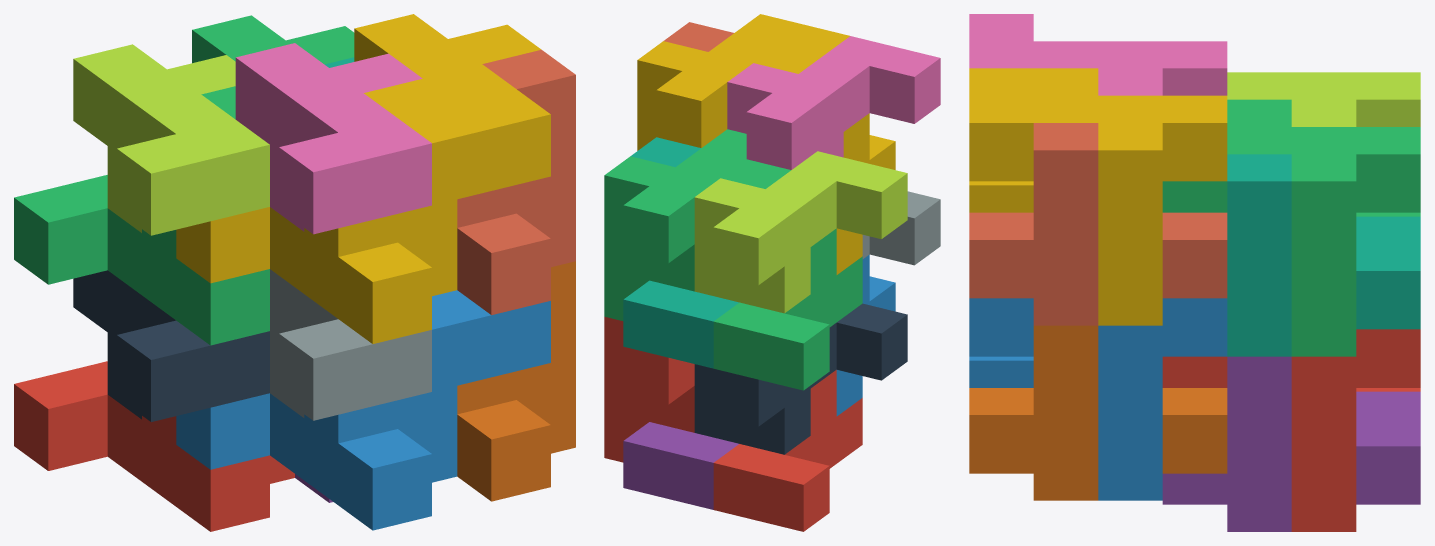
File: tiling.obj
3 views of the same model, side by side, from view 1: azimuth 30°, elevation 25°; view 2: azimuth 150°, elevation 25°; view 3: azimuth 270°, elevation 25° (orthographic). The views are drawn at different scales.
Visible parts, largest first — view 1: copy_2_domain_4, copy_2_domain_3, copy_1_domain_4, copy_1_domain_2, copy_2_domain_8, copy_1_domain_3, copy_1_domain_1, copy_1_domain_8, copy_2_domain_1, copy_1_domain_6, copy_2_domain_2, copy_2_domain_6 (+1 smaller); view 2: copy_2_domain_3, copy_2_domain_4, copy_2_domain_7, copy_1_domain_3, copy_2_domain_1, copy_2_domain_8, copy_1_domain_1, copy_2_domain_5, copy_1_domain_7, copy_1_domain_5, copy_1_domain_4, copy_2_domain_2 (+2 smaller); view 3: copy_2_domain_8, copy_1_domain_8, copy_2_domain_7, copy_1_domain_6, copy_1_domain_5, copy_1_domain_7, copy_2_domain_6, copy_2_domain_5, copy_2_domain_4, copy_2_domain_3, copy_1_domain_4, copy_1_domain_3 (+1 smaller).
Part boxes in pixels (<box>): copy_2_domain_4: <box>235,43,431,234</box>; copy_2_domain_3: <box>73,44,269,235</box>; copy_1_domain_4: <box>176,78,457,343</box>; copy_1_domain_2: <box>176,386,457,530</box>; copy_2_domain_8: <box>354,14,550,205</box>; copy_1_domain_3: <box>14,86,269,345</box>; copy_1_domain_1: <box>14,361,294,531</box>; copy_1_domain_8: <box>457,49,575,315</box>; copy_2_domain_1: <box>73,270,269,421</box>; copy_1_domain_6: <box>457,261,575,501</box>; copy_2_domain_2: <box>270,269,431,420</box>; copy_2_domain_6: <box>432,290,550,391</box>; copy_2_domain_3: <box>694,151,907,313</box>; copy_2_domain_4: <box>727,36,940,169</box>; copy_2_domain_7: <box>604,129,746,320</box>; copy_1_domain_3: <box>713,159,862,390</box>; copy_2_domain_1: <box>694,303,907,454</box>; copy_2_domain_8: <box>637,14,849,150</box>; copy_1_domain_1: <box>713,370,862,531</box>; copy_2_domain_5: <box>604,316,694,462</box>; copy_1_domain_7: <box>623,137,739,368</box>; copy_1_domain_5: <box>623,422,738,509</box>; copy_1_domain_4: <box>754,44,895,274</box>; copy_2_domain_2: <box>862,191,940,265</box>; copy_2_domain_8: <box>969,68,1227,325</box>; copy_1_domain_8: <box>969,123,1227,325</box>; copy_2_domain_7: <box>1162,127,1420,356</box>; copy_1_domain_6: <box>969,325,1227,500</box>; copy_1_domain_5: <box>1162,356,1420,531</box>; copy_1_domain_7: <box>1227,154,1420,356</box>; copy_2_domain_6: <box>969,298,1227,500</box>; copy_2_domain_5: <box>1162,329,1420,531</box>; copy_2_domain_4: <box>969,14,1227,95</box>; copy_2_domain_3: <box>1227,72,1420,126</box>; copy_1_domain_4: <box>969,68,1098,212</box>; copy_1_domain_3: <box>1227,99,1420,216</box>.
Size of the model in its own units: 6 by 7 by 7.
